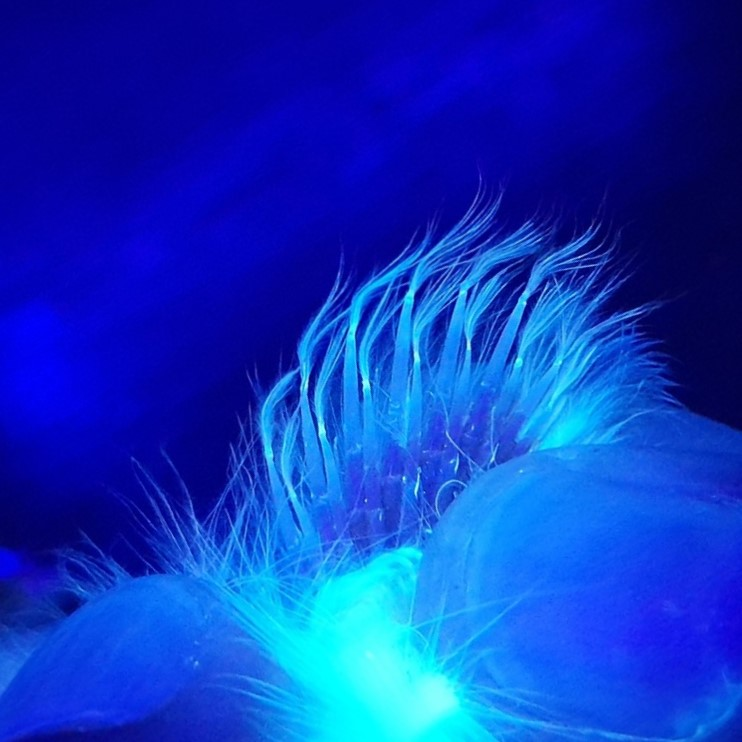female: (234, 270, 583, 599)
